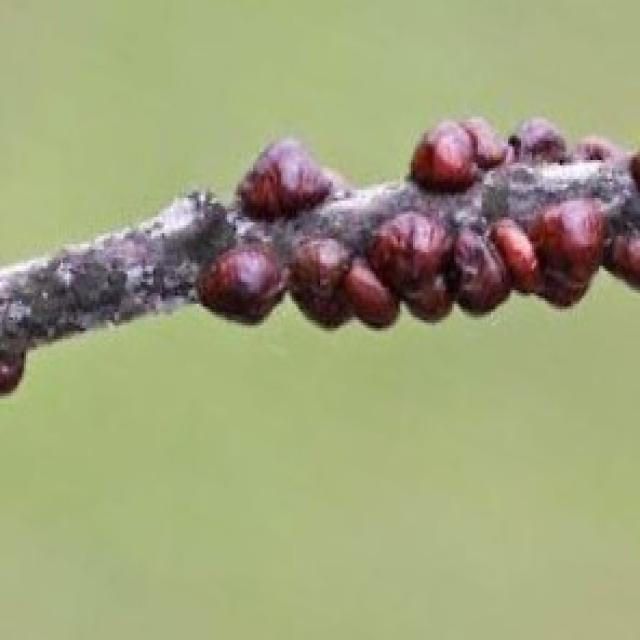Black Scale: (287, 190, 638, 339), (409, 117, 616, 200), (238, 138, 339, 217), (199, 241, 285, 323)
